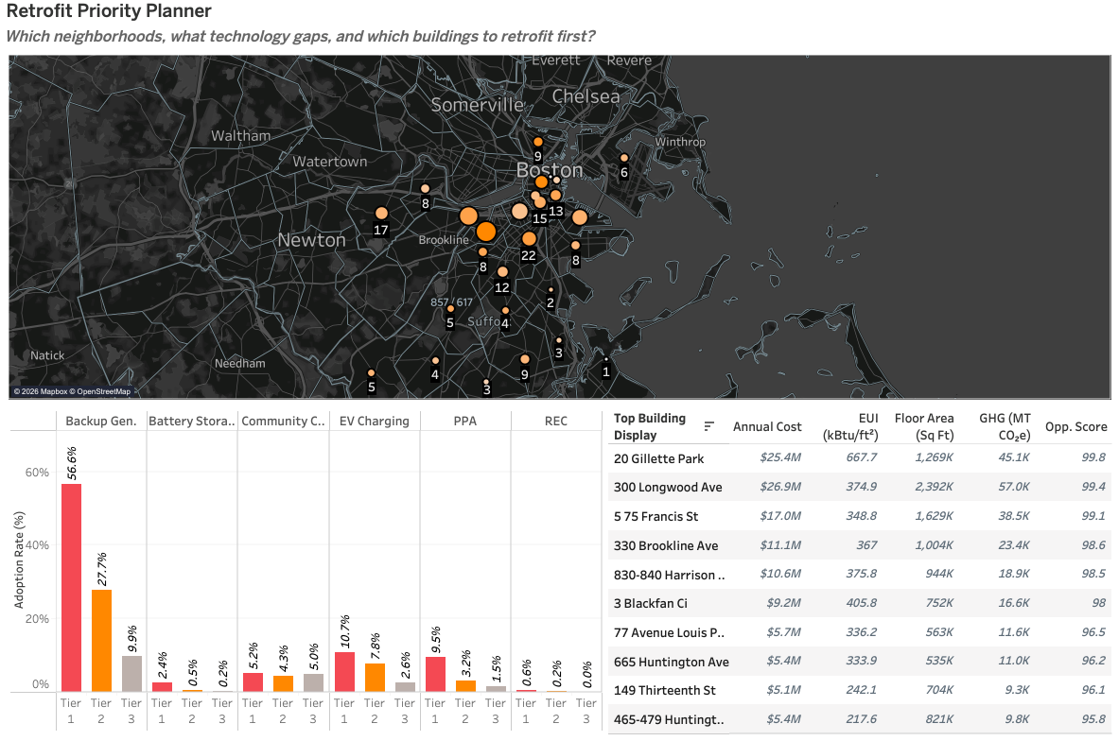

The page's visual inventory and layout, read from the dashboard file:
{"tool":"tableau","page":{"name":"Dashboard 4 - Retrofit Priority Planner","canvas":[1200,800],"ordinal":3},"visuals":[{"type":"title","box":[8,8,1184,31]},{"type":"text","box":[10,36,658,30]},{"type":"worksheet","title":"WS12: Zip Code Map","mark":"Automatic","box":[17,70,1166,365]},{"type":"worksheet","title":"WS13 - Top 10 Buildings Table","mark":"Automatic","rows":["Calculation_3481594680913954"],"box":[651,445,533,344]},{"type":"worksheet","title":"WS14: Green Technology Readiness","mark":"Bar","cols":["Calculation_3481594377998344"],"box":[19,447,626,339]}]}

Visuals, with their boxes in screenshot pixels (x1, y1, x2, y2), scaled from the page's 1200x800 canvas onto the 1119x741 screenshot:
title: [x1=7, y1=7, x2=1112, y2=36]
text: [x1=9, y1=33, x2=623, y2=61]
"WS12: Zip Code Map" worksheet: [x1=16, y1=65, x2=1103, y2=403]
"WS13 - Top 10 Buildings Table" worksheet: [x1=607, y1=412, x2=1104, y2=731]
"WS14: Green Technology Readiness" worksheet (Bar marks): [x1=18, y1=414, x2=601, y2=728]
